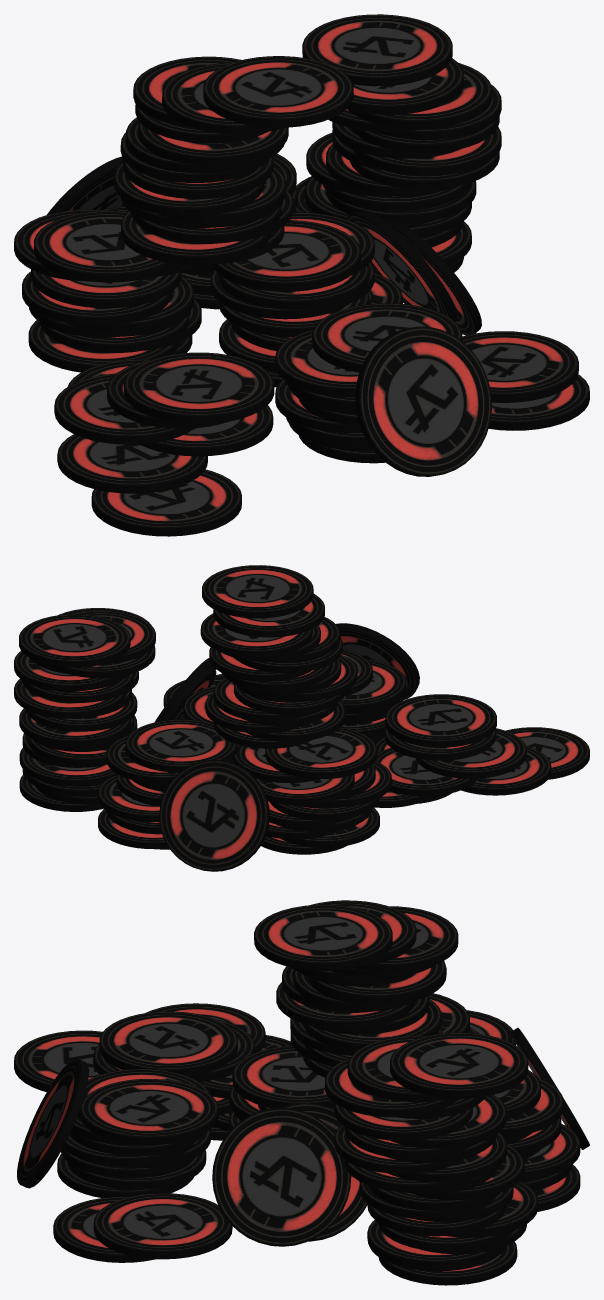
3 views of the same model, one above another, from view 1: azimuth 30°, elevation 25°; view 2: azimuth 150°, elevation 25°; view 3: azimuth 270°, elevation 25° (orthographic). The views are drawn at different scales.
Parts seen in each view (by area): view 1: coin_low99; view 2: coin_low99; view 3: coin_low99.
Part boxes in pixels (x1,y1,x2,y2): coin_low99: [14, 14, 589, 536]; coin_low99: [14, 565, 589, 871]; coin_low99: [14, 900, 589, 1285].
Bounding box in the file's own units: 0.3995 × 0.1808 × 0.381.
Materials: 1 (1 with a texture image).
